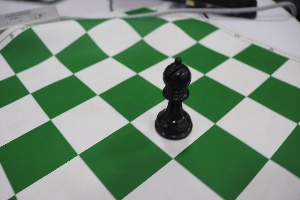black_bishop: (150, 52, 199, 144)
